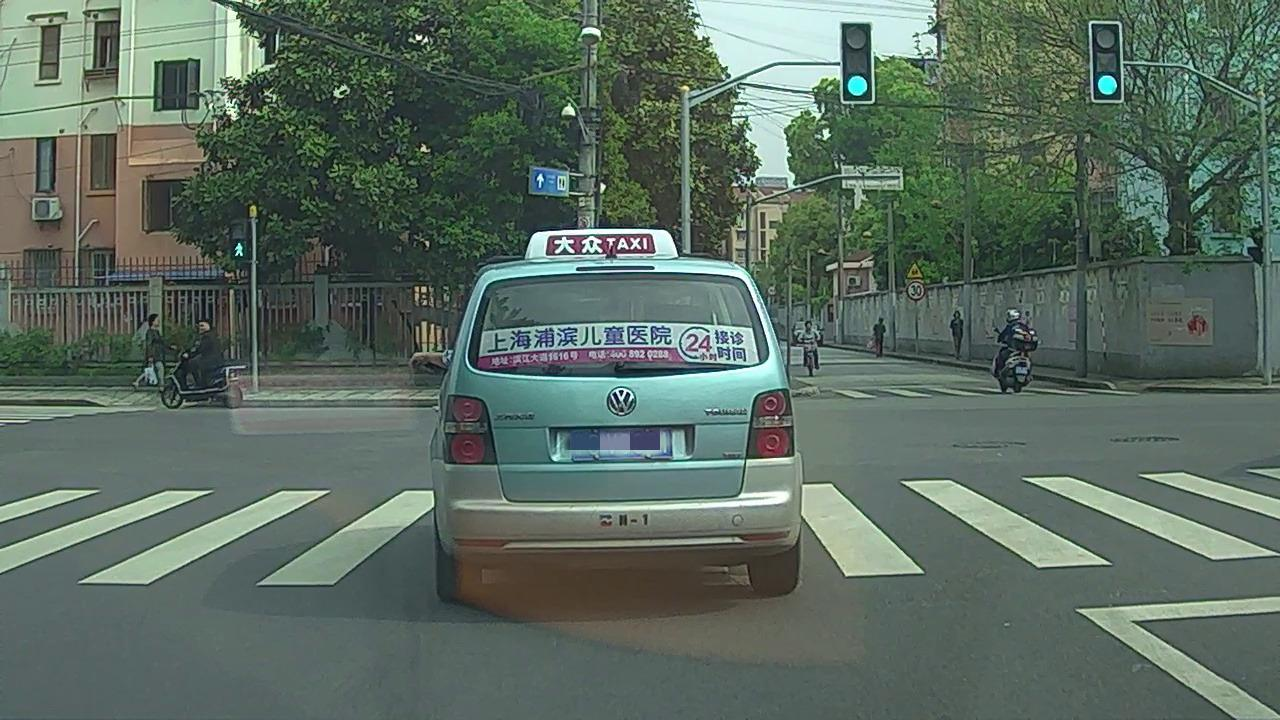traffic_light: (1091, 24, 1120, 100), (843, 24, 871, 101)
